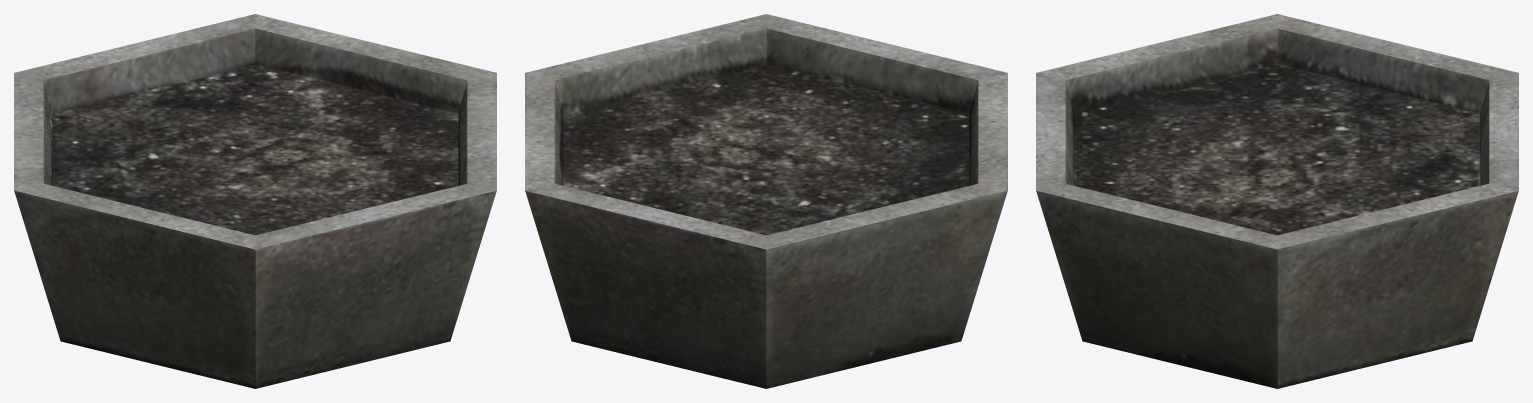
Rendered from planter_3012.glb.
3 views of the same model, side by side, from view 1: azimuth 30°, elevation 25°; view 2: azimuth 150°, elevation 25°; view 3: azimuth 270°, elevation 25° (orthographic).
Visible parts, largest first — view 1: planter_3012; view 2: planter_3012; view 3: planter_3012.
Part boxes in pixels (bbox=[...]): planter_3012: bbox=[14, 14, 496, 388]; planter_3012: bbox=[525, 14, 1007, 388]; planter_3012: bbox=[1036, 14, 1518, 388].
Size of the model in its own units: 1.3 by 0.417 by 1.13.
Materials: 1 (1 with a texture image).
